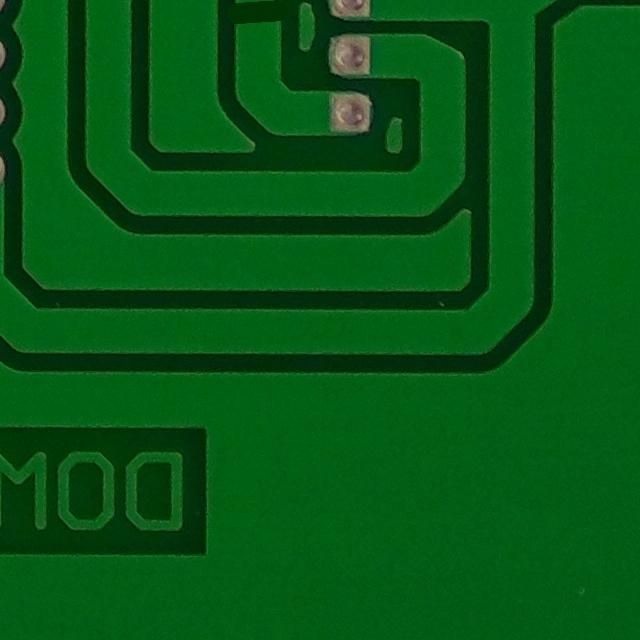open_circuit: (224, 0, 291, 48)
